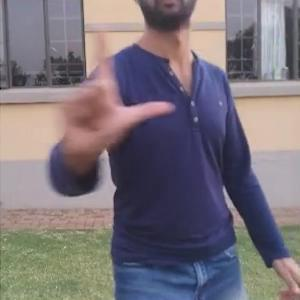land_hand: (54, 18, 177, 151)
